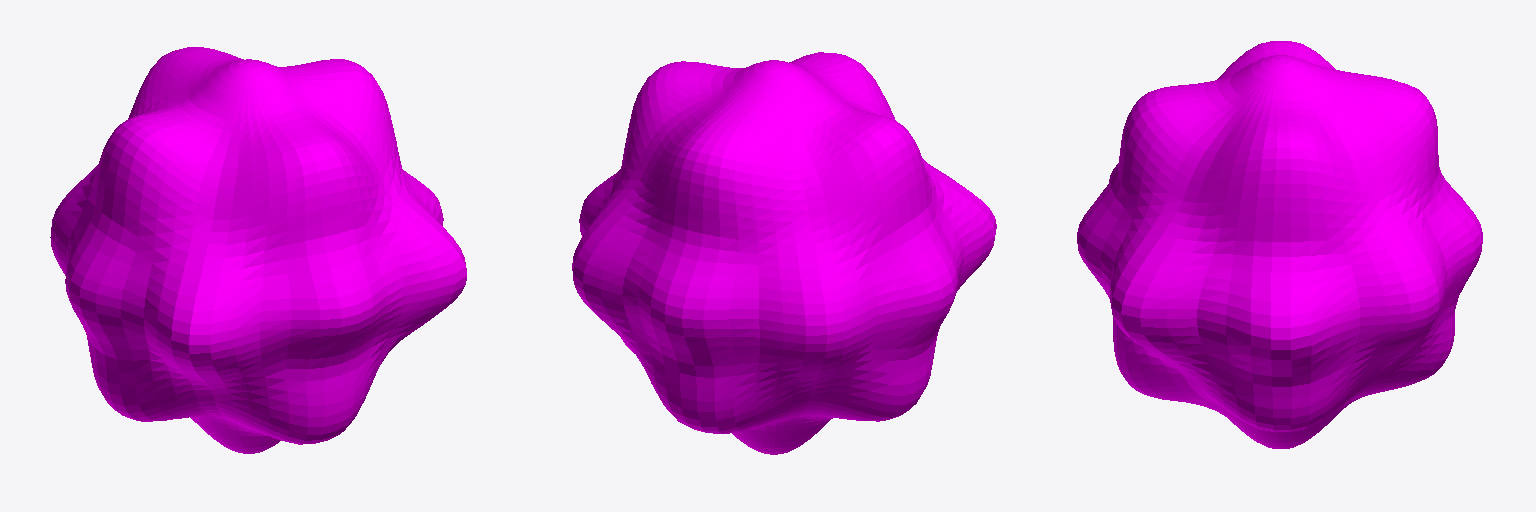
File: newneba00.obj
The picture shows the model from 3 angles: view 1: azimuth 30°, elevation 25°; view 2: azimuth 150°, elevation 25°; view 3: azimuth 270°, elevation 25°; orthographic projection.
Parts seen in each view (by area): view 1: pSphere1; view 2: pSphere1; view 3: pSphere1.
Boxes of the visible parts, x1,y1,x2,y2 form: pSphere1: [50, 47, 466, 453]; pSphere1: [572, 52, 996, 454]; pSphere1: [1077, 41, 1482, 448].
Bounding box in the file's own units: 2.48 × 2.54 × 2.41.